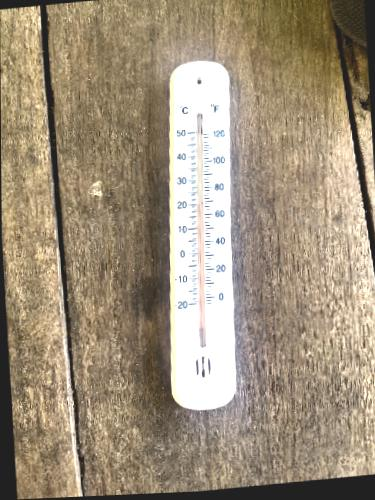thermo: (168, 67, 235, 408)
